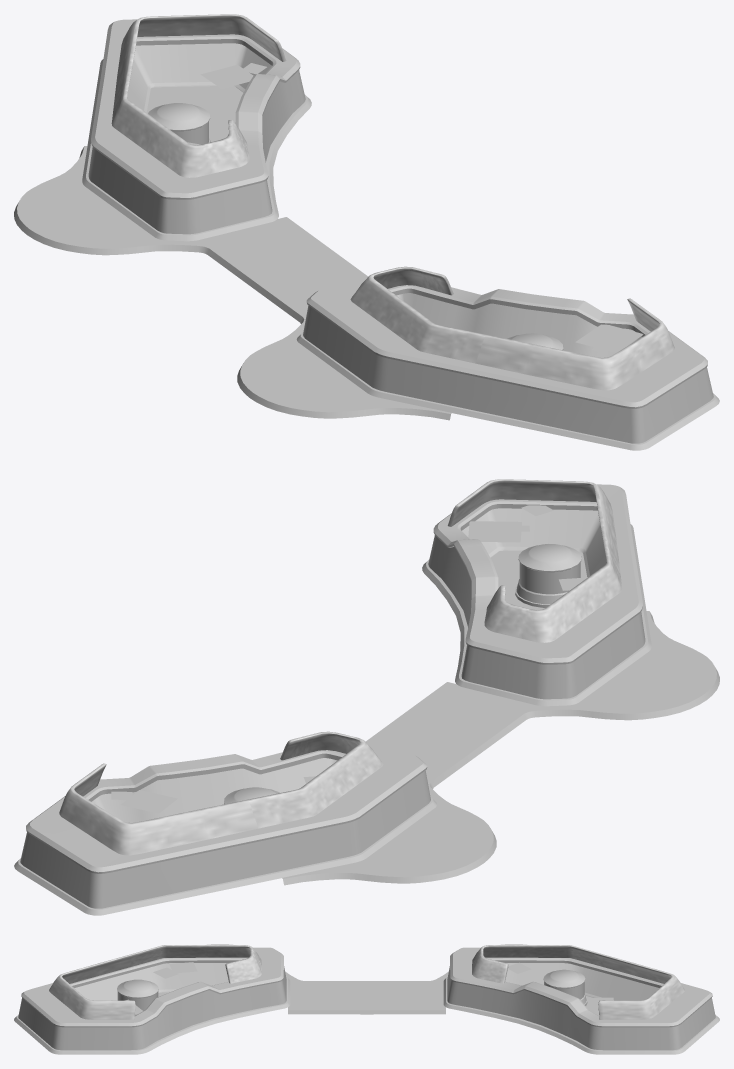
File: pref_sm_beach_techcenter_floor02_lv3.fbx
The picture shows the model from 3 angles, top to bottom: view 1: azimuth 30°, elevation 25°; view 2: azimuth 150°, elevation 25°; view 3: azimuth 270°, elevation 25°; orthographic projection. The views are drawn at different scales.
Parts seen in each view (by area): view 1: sm_beach_techcenter_floor02a_lv3, sm_beach_techcenter_floor02c_lv3, sm_beach_techcenter_floor02d_lv3; view 2: sm_beach_techcenter_floor02a_lv3, sm_beach_techcenter_floor02c_lv3, sm_beach_techcenter_floor02d_lv3; view 3: sm_beach_techcenter_floor02a_lv3, sm_beach_techcenter_floor02c_lv3, sm_beach_techcenter_floor02d_lv3.
Part boxes in pixels (x1=…): sm_beach_techcenter_floor02a_lv3: x1=14, y1=19, x2=719, y2=450; sm_beach_techcenter_floor02c_lv3: x1=111, y1=14, x2=674, y2=390; sm_beach_techcenter_floor02d_lv3: x1=188, y1=63, x2=643, y2=352; sm_beach_techcenter_floor02a_lv3: x1=14, y1=484, x2=719, y2=915; sm_beach_techcenter_floor02c_lv3: x1=59, y1=479, x2=622, y2=855; sm_beach_techcenter_floor02d_lv3: x1=111, y1=505, x2=587, y2=813; sm_beach_techcenter_floor02a_lv3: x1=14, y1=944, x2=719, y2=1054; sm_beach_techcenter_floor02c_lv3: x1=49, y1=945, x2=684, y2=1019; sm_beach_techcenter_floor02d_lv3: x1=111, y1=962, x2=613, y2=1014.
Size of the model in its own units: 13.03 by 2.54 by 34.89.
